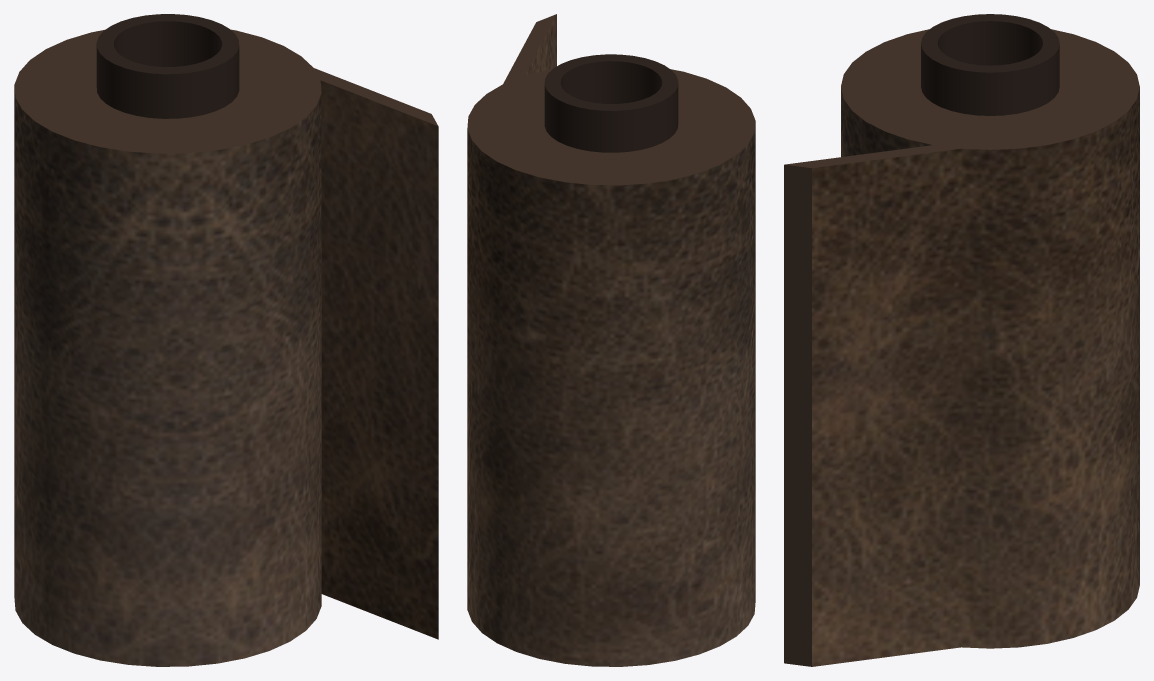
Rendered from F_LBrownSkin_03.fbx.
3 views of the same model, side by side, from view 1: azimuth 30°, elevation 25°; view 2: azimuth 150°, elevation 25°; view 3: azimuth 270°, elevation 25° (orthographic). The views are drawn at different scales.
Parts seen in each view (by area): view 1: F_LBrownSkin_03; view 2: F_LBrownSkin_03; view 3: F_LBrownSkin_03.
Part boxes in pixels (bbox=[...]): F_LBrownSkin_03: bbox=[14, 14, 438, 666]; F_LBrownSkin_03: bbox=[467, 14, 755, 666]; F_LBrownSkin_03: bbox=[784, 14, 1139, 666].
Bounding box in the file's own units: 62.7 × 110 × 65.15.
Materials: 1 (1 with a texture image).
